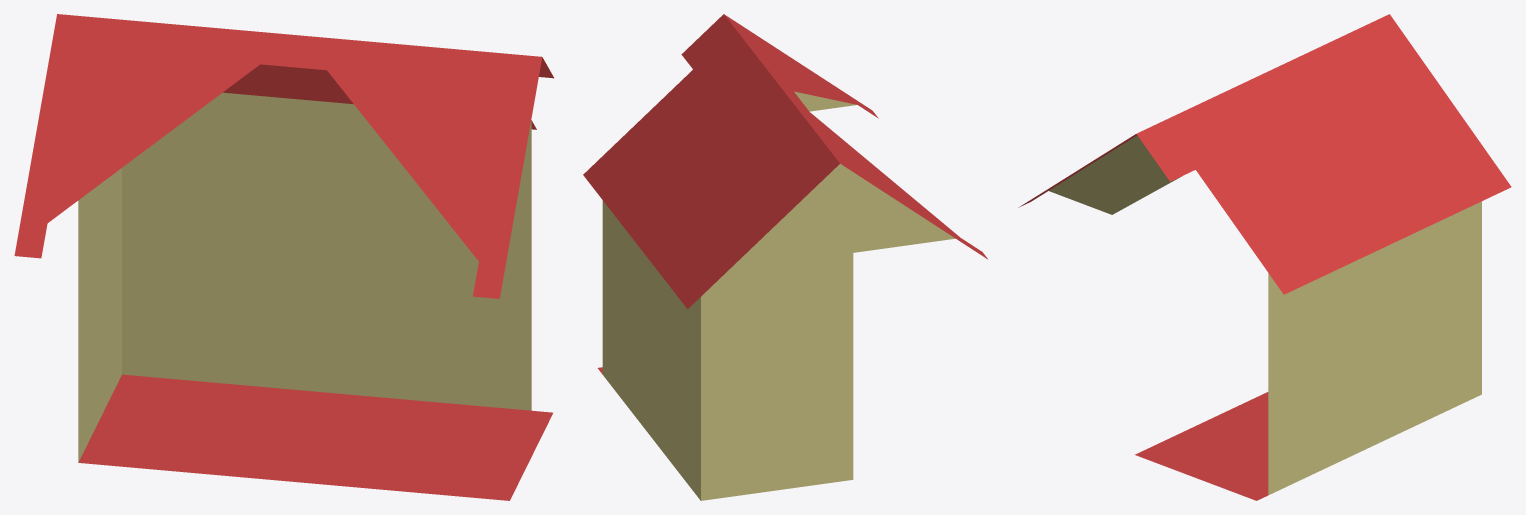
3 renders of one model, left to right at view 1: azimuth 30°, elevation 25°; view 2: azimuth 150°, elevation 25°; view 3: azimuth 270°, elevation 25°, orthographic. The views are drawn at different scales.
Bounding box in the file's own units: 16.73 × 17.59 × 13.09.
